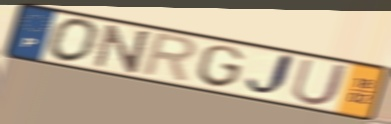G: (194, 44, 247, 90)
J: (243, 51, 298, 99)
N: (91, 22, 153, 75)
O: (46, 17, 103, 65)
R: (137, 31, 200, 86)
U: (288, 57, 351, 107)
